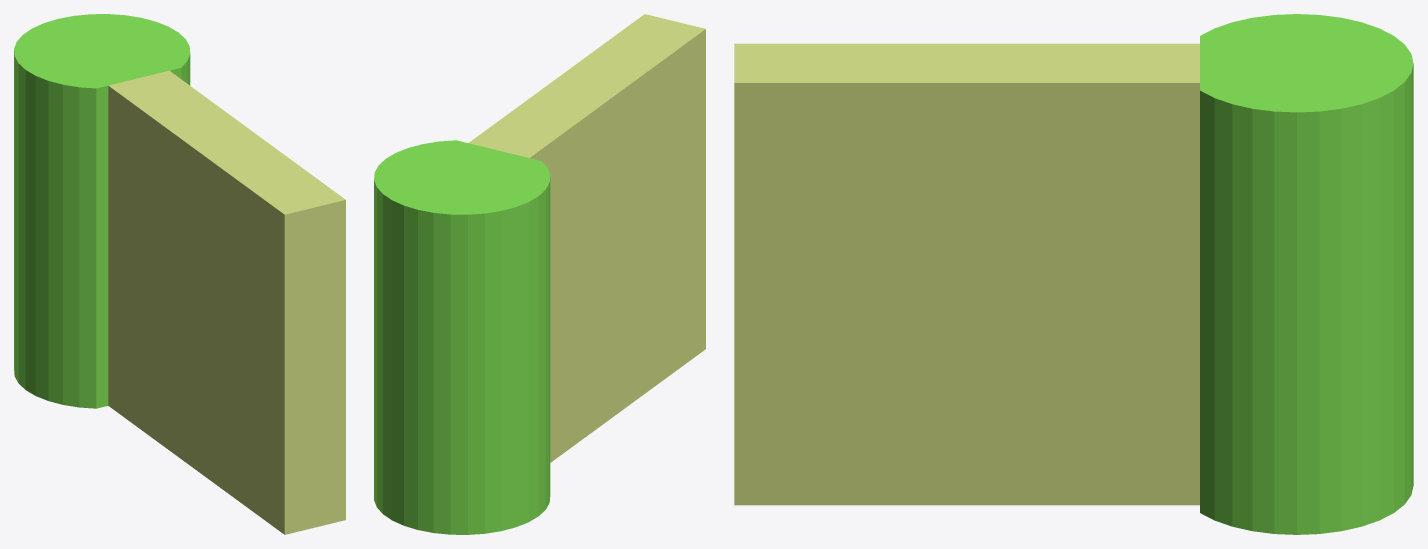
Rendered from Fliper.fbx.
The picture shows the model from 3 angles, left to right: view 1: azimuth 30°, elevation 25°; view 2: azimuth 150°, elevation 25°; view 3: azimuth 270°, elevation 25°; orthographic projection. The views are drawn at different scales.
Parts seen in each view (by area): view 1: 立方体, 円柱; view 2: 円柱, 立方体; view 3: 立方体, 円柱.
Part boxes in pixels (box(x1,y1,x2,y2)): 立方体: box(108, 70, 345, 534); 円柱: box(14, 14, 190, 408); 円柱: box(374, 140, 550, 534); 立方体: box(468, 14, 705, 462); 立方体: box(734, 43, 1199, 505); 円柱: box(1200, 14, 1413, 534).
Size of the model in its own units: 100 by 200 by 291.
